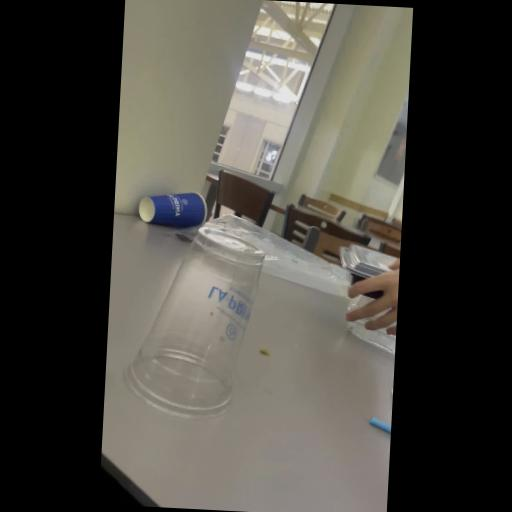lp_paper_cup: (138, 187, 210, 234)
lp_plastic_cup: (125, 219, 266, 425)
